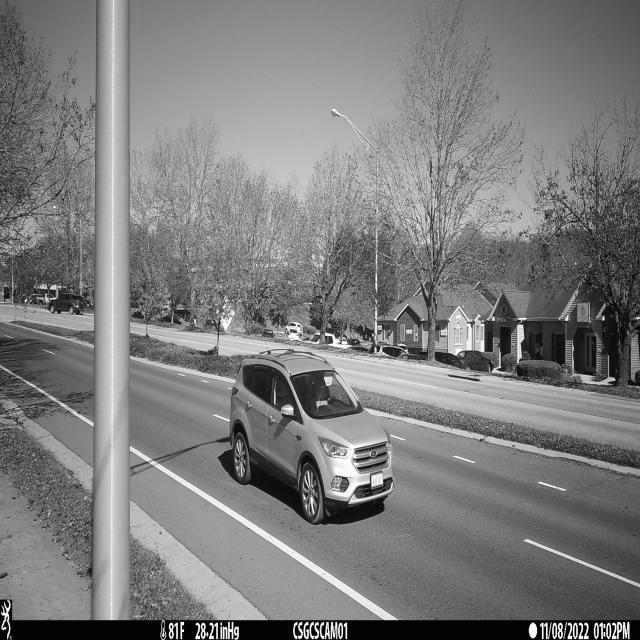SUV: (229, 351, 396, 526)
